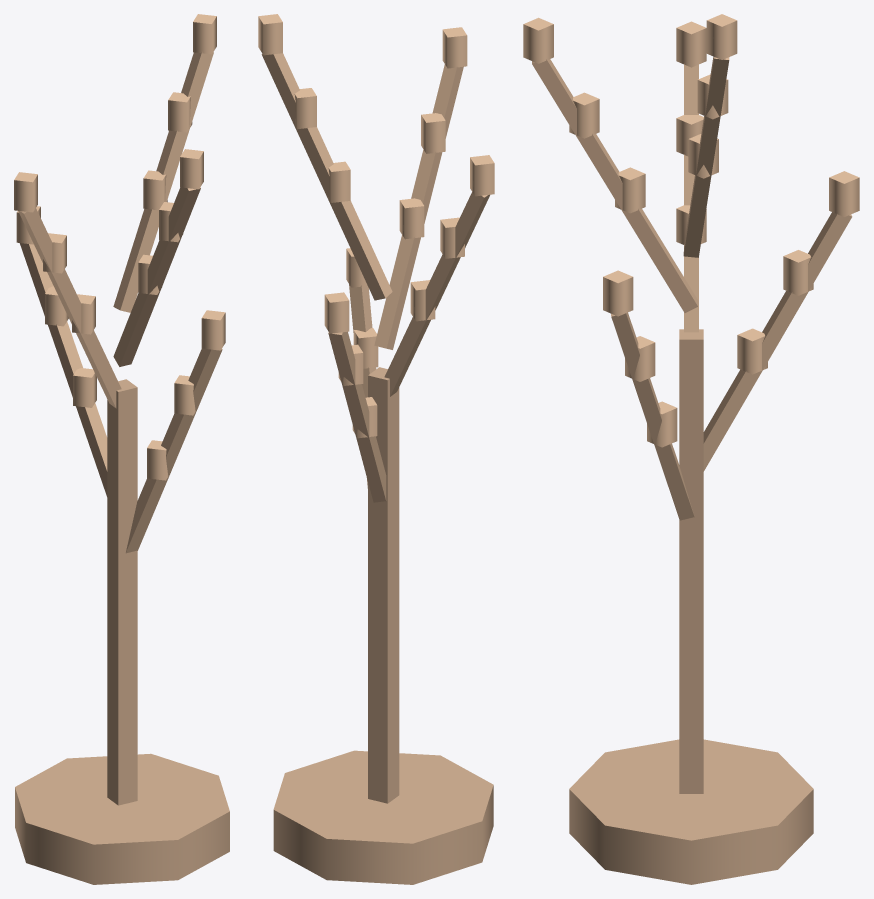
File: fairyLightStand.glb
The picture shows the model from 3 angles, left to right: view 1: azimuth 30°, elevation 25°; view 2: azimuth 150°, elevation 25°; view 3: azimuth 270°, elevation 25°; orthographic projection. The views are drawn at different scales.
Visible parts, largest first — view 1: fairyLightStand; view 2: fairyLightStand; view 3: fairyLightStand.
Part boxes in pixels (x1,y1,x2,y2): fairyLightStand: (14, 14, 229, 884); fairyLightStand: (258, 14, 494, 884); fairyLightStand: (523, 14, 859, 884).
Size of the model in its own units: 0.225 by 0.78 by 0.275.
